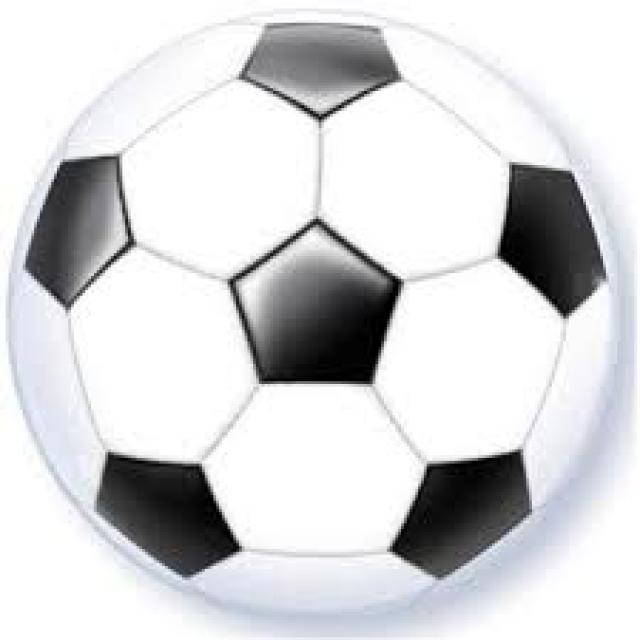football: (11, 9, 640, 632)
